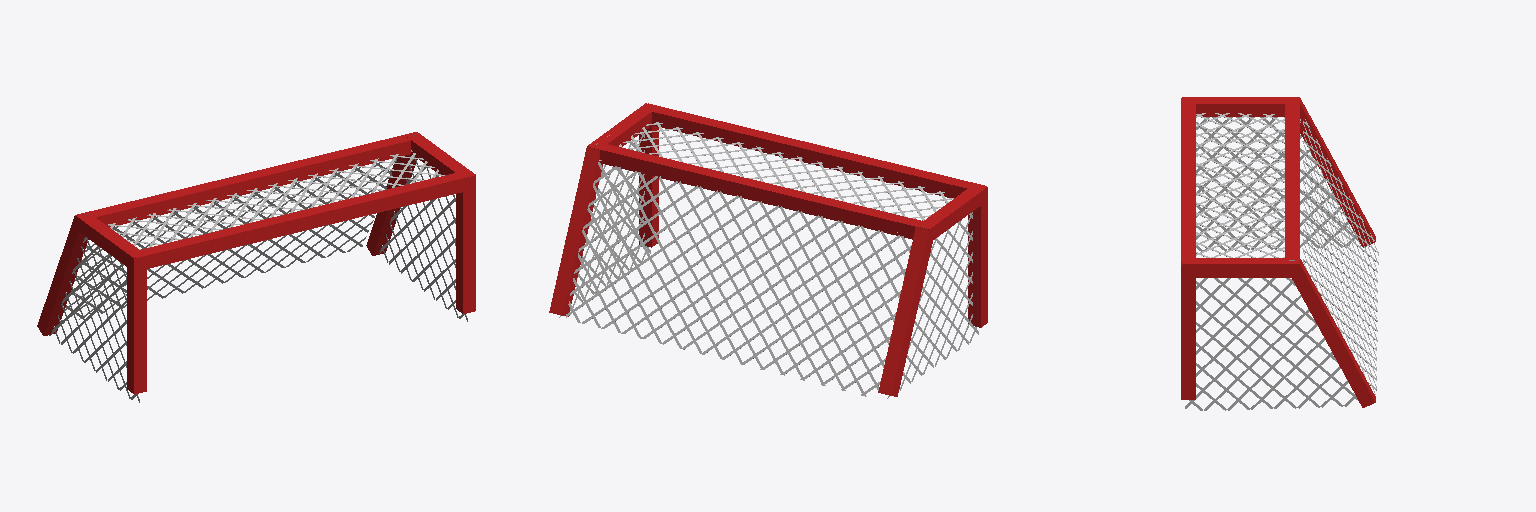
The model's file is goal_red.obj.
3 views of the same model, side by side, from view 1: azimuth 30°, elevation 25°; view 2: azimuth 150°, elevation 25°; view 3: azimuth 270°, elevation 25° (orthographic).
Visible parts, largest first — view 1: Cube.002_Cube.024, Cube.000_Cube.062, Cube.001_Cube.063, Cube.003_Cube.064, Cube.004_Cube.065; view 2: Cube.002_Cube.024, Cube.000_Cube.062, Cube.001_Cube.063, Cube.003_Cube.064, Cube.004_Cube.065; view 3: Cube.002_Cube.024, Cube.004_Cube.065, Cube.001_Cube.063, Cube.000_Cube.062, Cube.003_Cube.064.
Boxes of the visible parts, x1=… form: Cube.002_Cube.024: x1=37, y1=132, x2=475, y2=394; Cube.000_Cube.062: x1=61, y1=158, x2=397, y2=323; Cube.001_Cube.063: x1=108, y1=150, x2=444, y2=249; Cube.003_Cube.064: x1=49, y1=215, x2=139, y2=402; Cube.004_Cube.065: x1=379, y1=135, x2=467, y2=321; Cube.002_Cube.024: x1=549, y1=103, x2=987, y2=396; Cube.000_Cube.062: x1=566, y1=162, x2=911, y2=396; Cube.001_Cube.063: x1=599, y1=122, x2=953, y2=232; Cube.003_Cube.064: x1=887, y1=212, x2=978, y2=398; Cube.004_Cube.065: x1=559, y1=134, x2=650, y2=317; Cube.002_Cube.024: x1=1181, y1=97, x2=1375, y2=407; Cube.004_Cube.065: x1=1185, y1=260, x2=1357, y2=410; Cube.001_Cube.063: x1=1196, y1=113, x2=1300, y2=257; Cube.000_Cube.062: x1=1302, y1=119, x2=1378, y2=394; Cube.003_Cube.064: x1=1196, y1=117, x2=1366, y2=251.
Bounding box in the file's own units: 15.22 × 6.49 × 7.61.